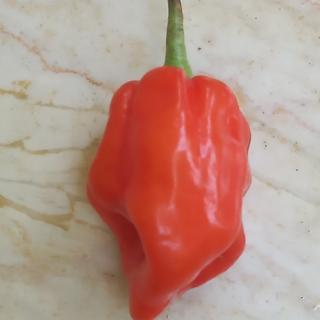Grade-A: (83, 62, 256, 318)
